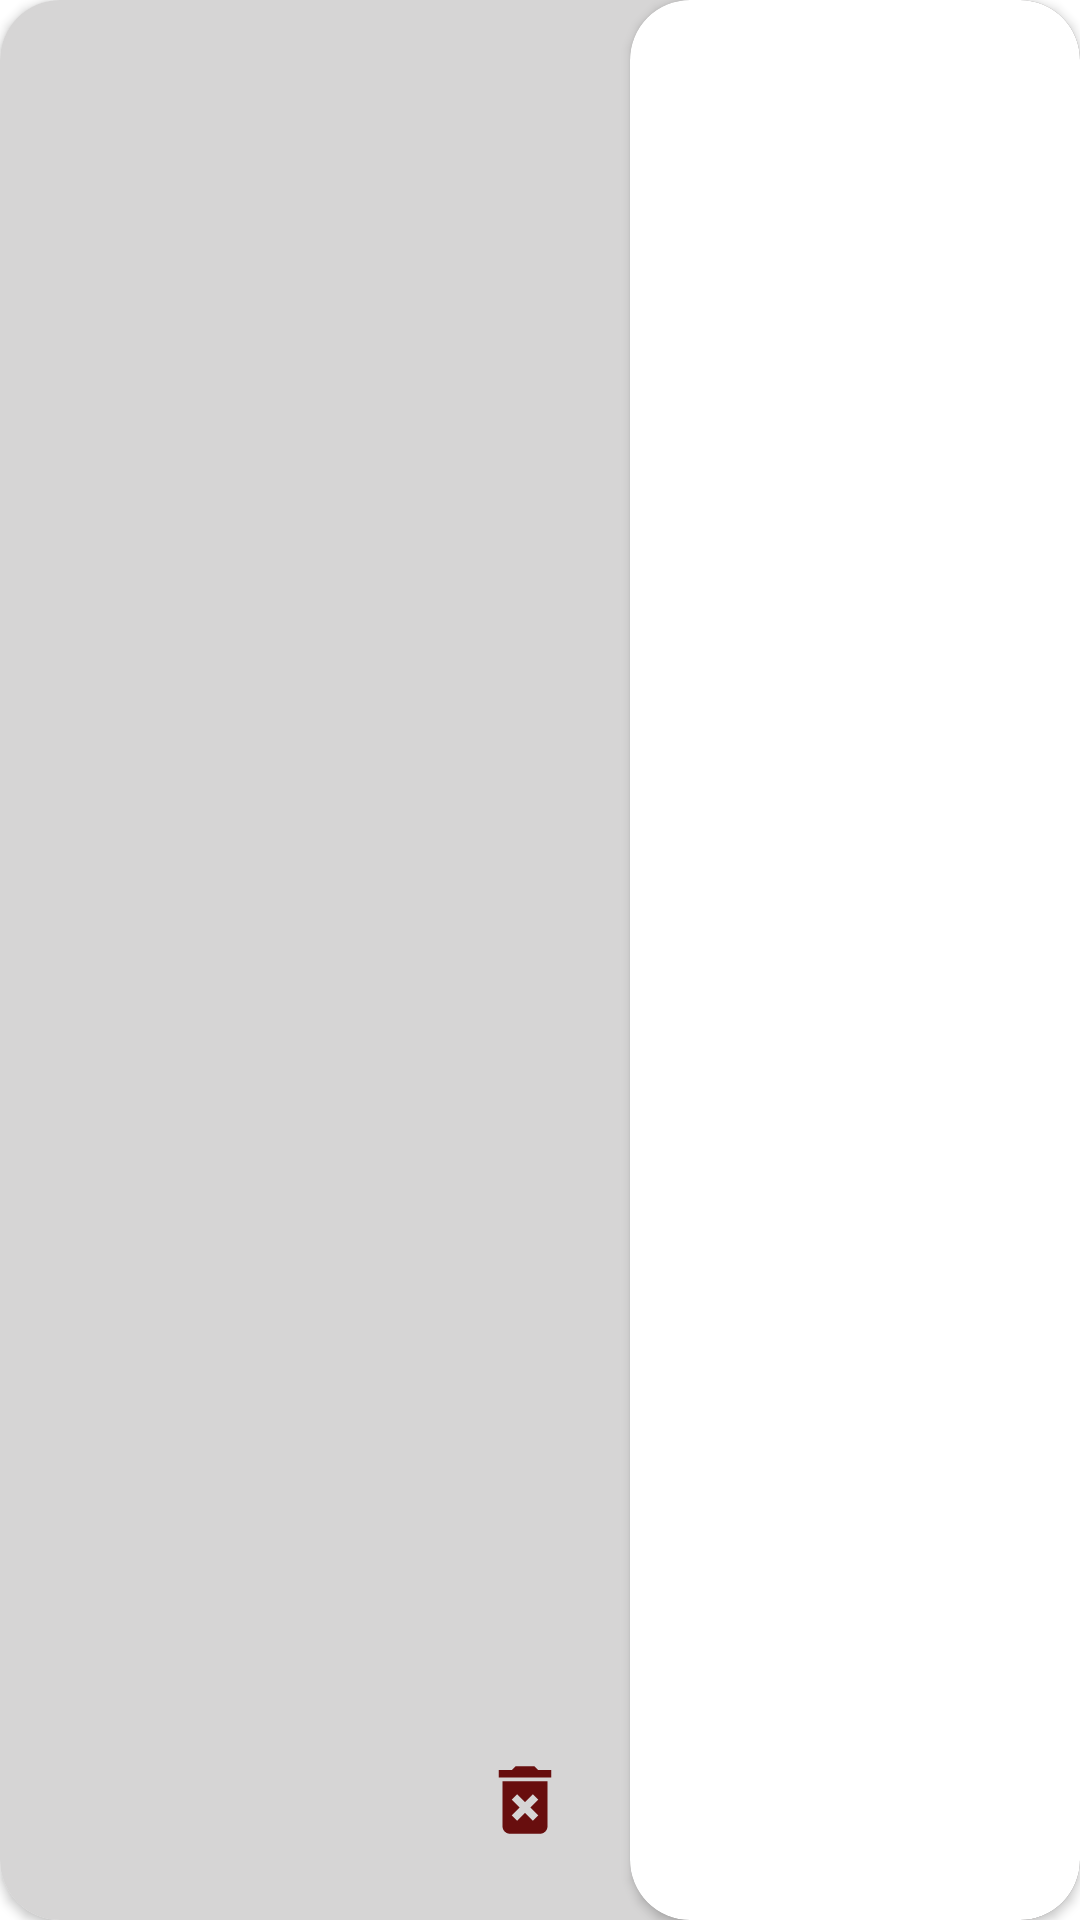

Named icons in this screenshot (1080 × 1920) and their bounding boxes, (x1,y1,x2,y2):
delete forever: (498,1766,552,1834)
